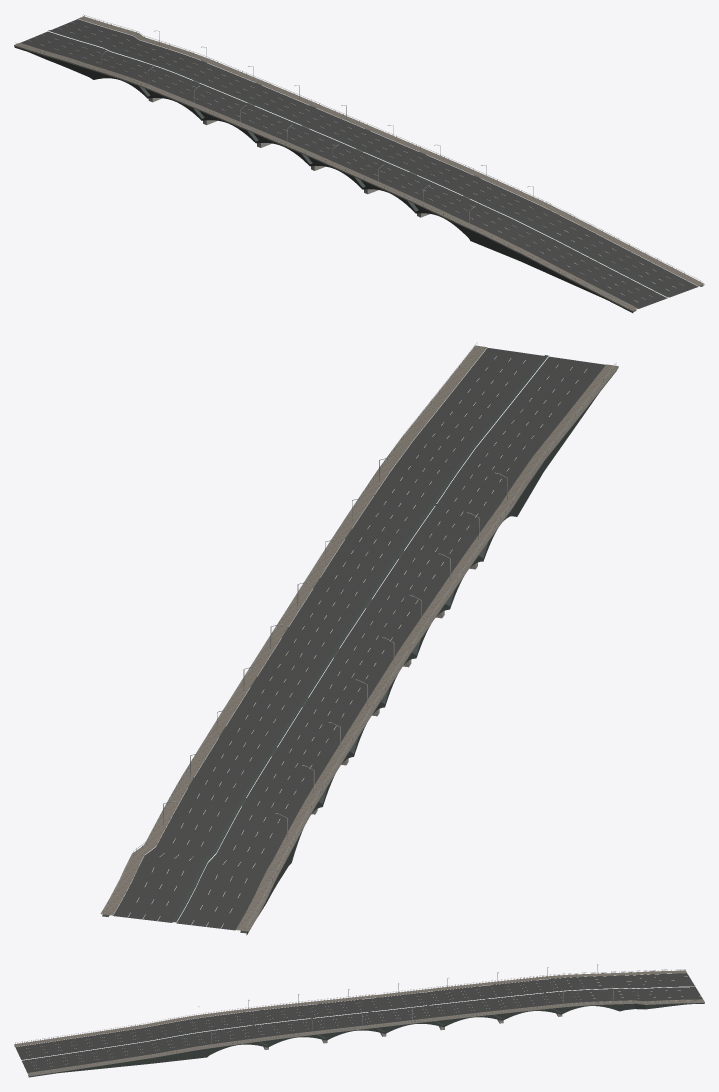
3 renders of one model, top to bottom at view 1: azimuth 30°, elevation 25°; view 2: azimuth 150°, elevation 25°; view 3: azimuth 270°, elevation 25°, orthographic. The views are drawn at different scales.
Visible parts, largest first — view 1: Esplanade carriageways, Esplanade footways, Esplanade concrete box girders, Esplanade railings and lamps, Esplanade pier caps and parapet edge, Esplanade lane paint; view 2: Esplanade carriageways, Esplanade footways, Esplanade concrete box girders, Esplanade railings and lamps, Esplanade pier caps and parapet edge, Esplanade lane paint; view 3: Esplanade carriageways, Esplanade footways, Esplanade concrete box girders, Esplanade railings and lamps, Esplanade pier caps and parapet edge, Esplanade lane paint.
Boxes of the visible parts, x1,y1,x2,y2 form: Esplanade carriageways: (20,19,698,308); Esplanade footways: (14,16,704,310); Esplanade concrete box girders: (14,30,703,312); Esplanade railings and lamps: (15,14,702,308); Esplanade pier caps and parapet edge: (14,45,632,311); Esplanade lane paint: (41,26,683,301); Esplanade carriageways: (113,347,605,930); Esplanade footways: (100,345,618,931); Esplanade concrete box girders: (102,355,616,935); Esplanade railings and lamps: (102,342,616,929); Esplanade pier caps and parapet edge: (242,366,618,932); Esplanade lane paint: (128,356,586,928); Esplanade carriageways: (15,973,702,1072); Esplanade footways: (14,970,704,1075); Esplanade concrete box girders: (14,973,704,1077); Esplanade railings and lamps: (15,964,697,1074); Esplanade pier caps and parapet edge: (28,992,704,1076); Esplanade lane paint: (26,976,700,1068).
Bounding box in the file's own units: 144 × 16.59 × 402.
6 materials, 5 textured.
